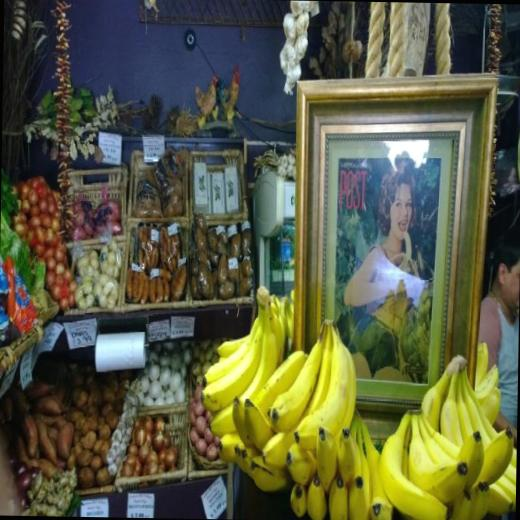Banana: (196, 282, 519, 520), (376, 367, 517, 512), (268, 324, 323, 434)
